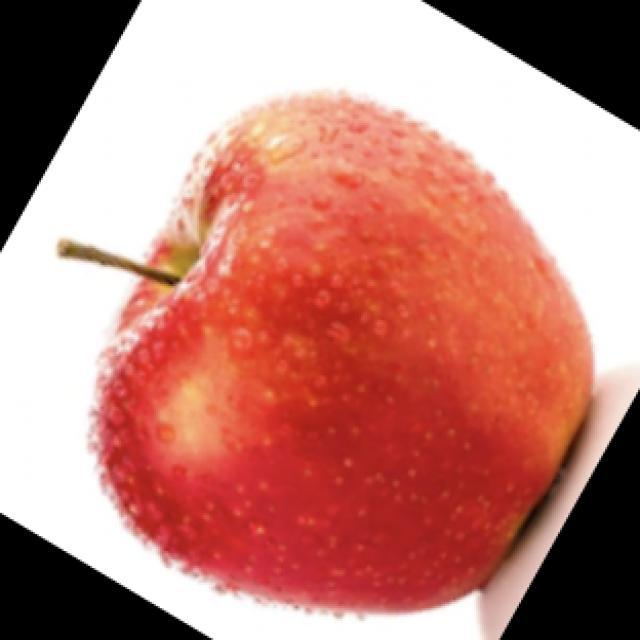Fresh Apple: (105, 105, 590, 577)
